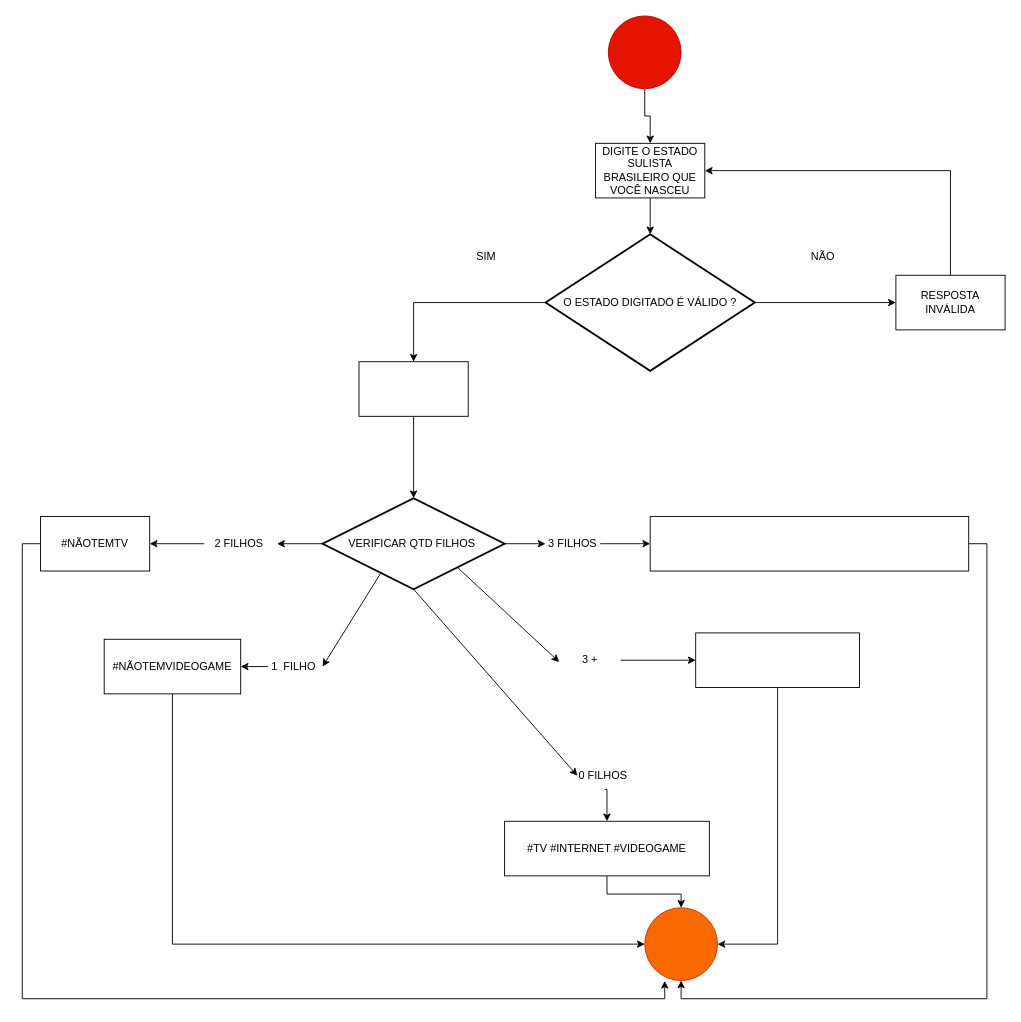
The diagram is 1021 pixels wide and 1022 high, and some of its shapes have lost their labels. Here are the shapes that lost their labels. From the top down, the box of each, then its label:
(358, 361, 468, 416): QUANTOS FILHOS ?
(649, 516, 969, 571): #NÃOTEMTV #NÃOTEMINTERNET #NÃOTEMVIDEOGAME
(695, 632, 859, 688): #CRESCIEMULTIPLICATIVO
